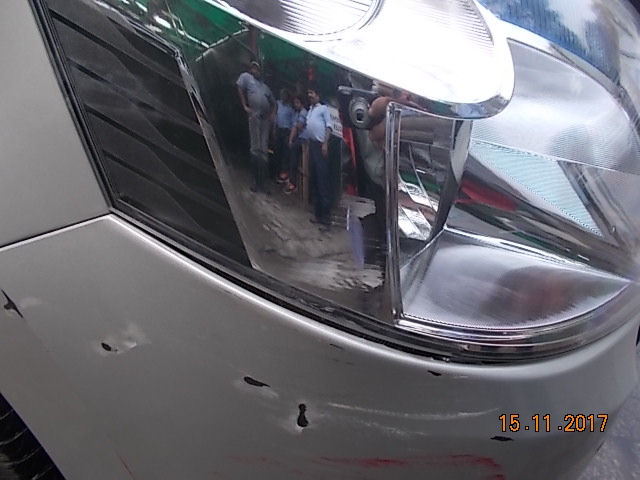Scratch_or_spot: (288, 394, 327, 440), (1, 288, 29, 326), (240, 370, 279, 397), (98, 336, 117, 359)
